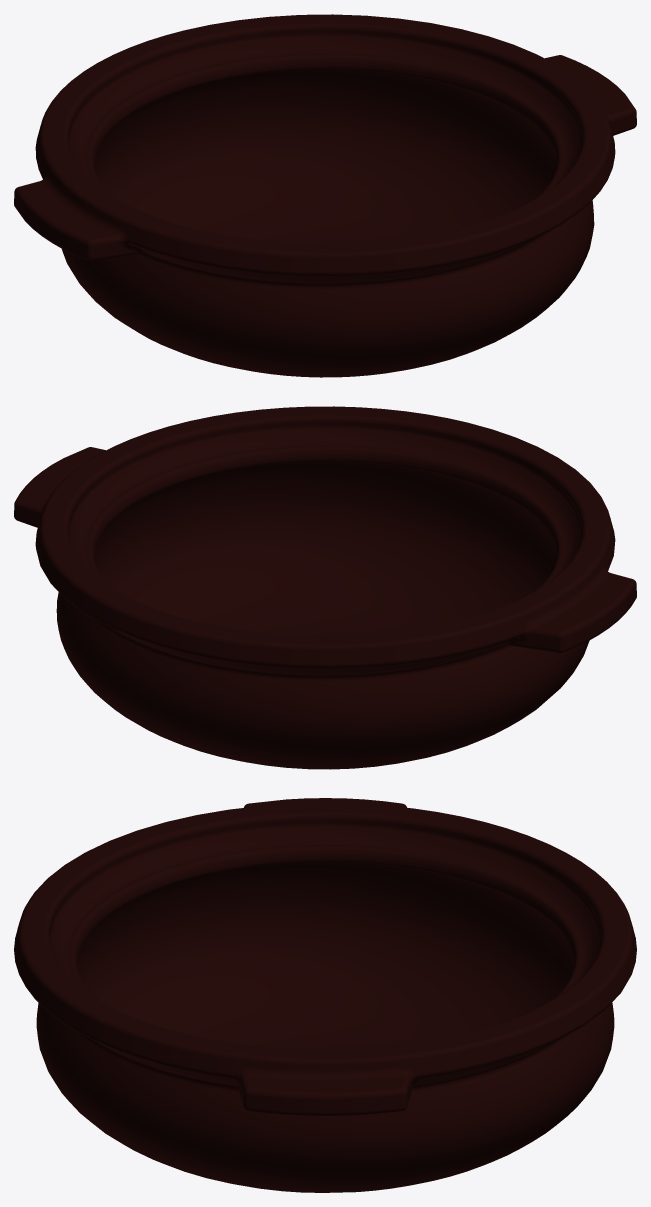
Rendered from NABE.obj.
3 renders of one model, top to bottom at view 1: azimuth 30°, elevation 25°; view 2: azimuth 150°, elevation 25°; view 3: azimuth 270°, elevation 25°, orthographic. The views are drawn at different scales.
Bounding box in the file's own units: 2.93 × 0.8738 × 2.58.
